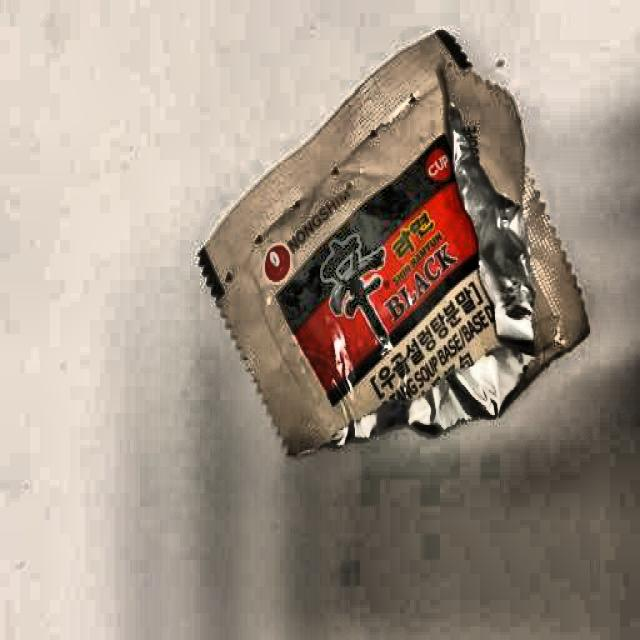trash: (208, 36, 550, 447)
